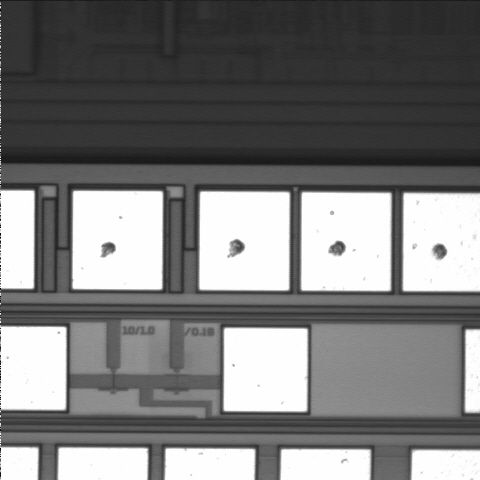pad: (199, 192, 290, 290), (301, 192, 391, 291), (73, 191, 163, 289), (224, 328, 307, 411)
